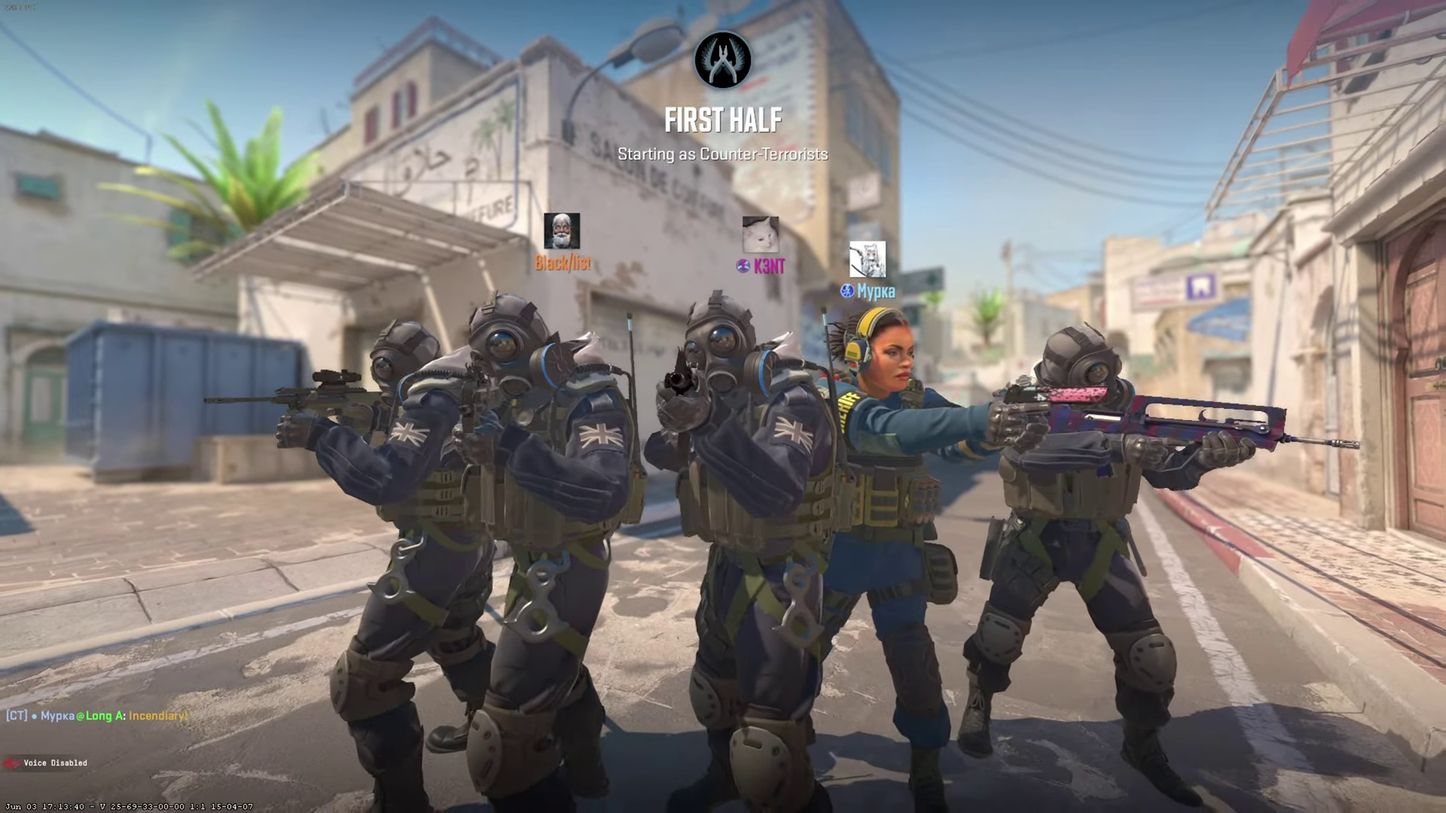CT: (965, 326, 1205, 808), (466, 296, 625, 810), (669, 290, 826, 807), (326, 322, 463, 808), (829, 308, 961, 808)
